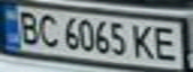0: (78, 16, 96, 53)
5: (109, 20, 130, 57)
6: (60, 15, 81, 52), (93, 19, 112, 55)
B: (12, 8, 42, 45)
C: (33, 11, 60, 47)
E: (151, 24, 184, 63)
K: (127, 21, 157, 61)
